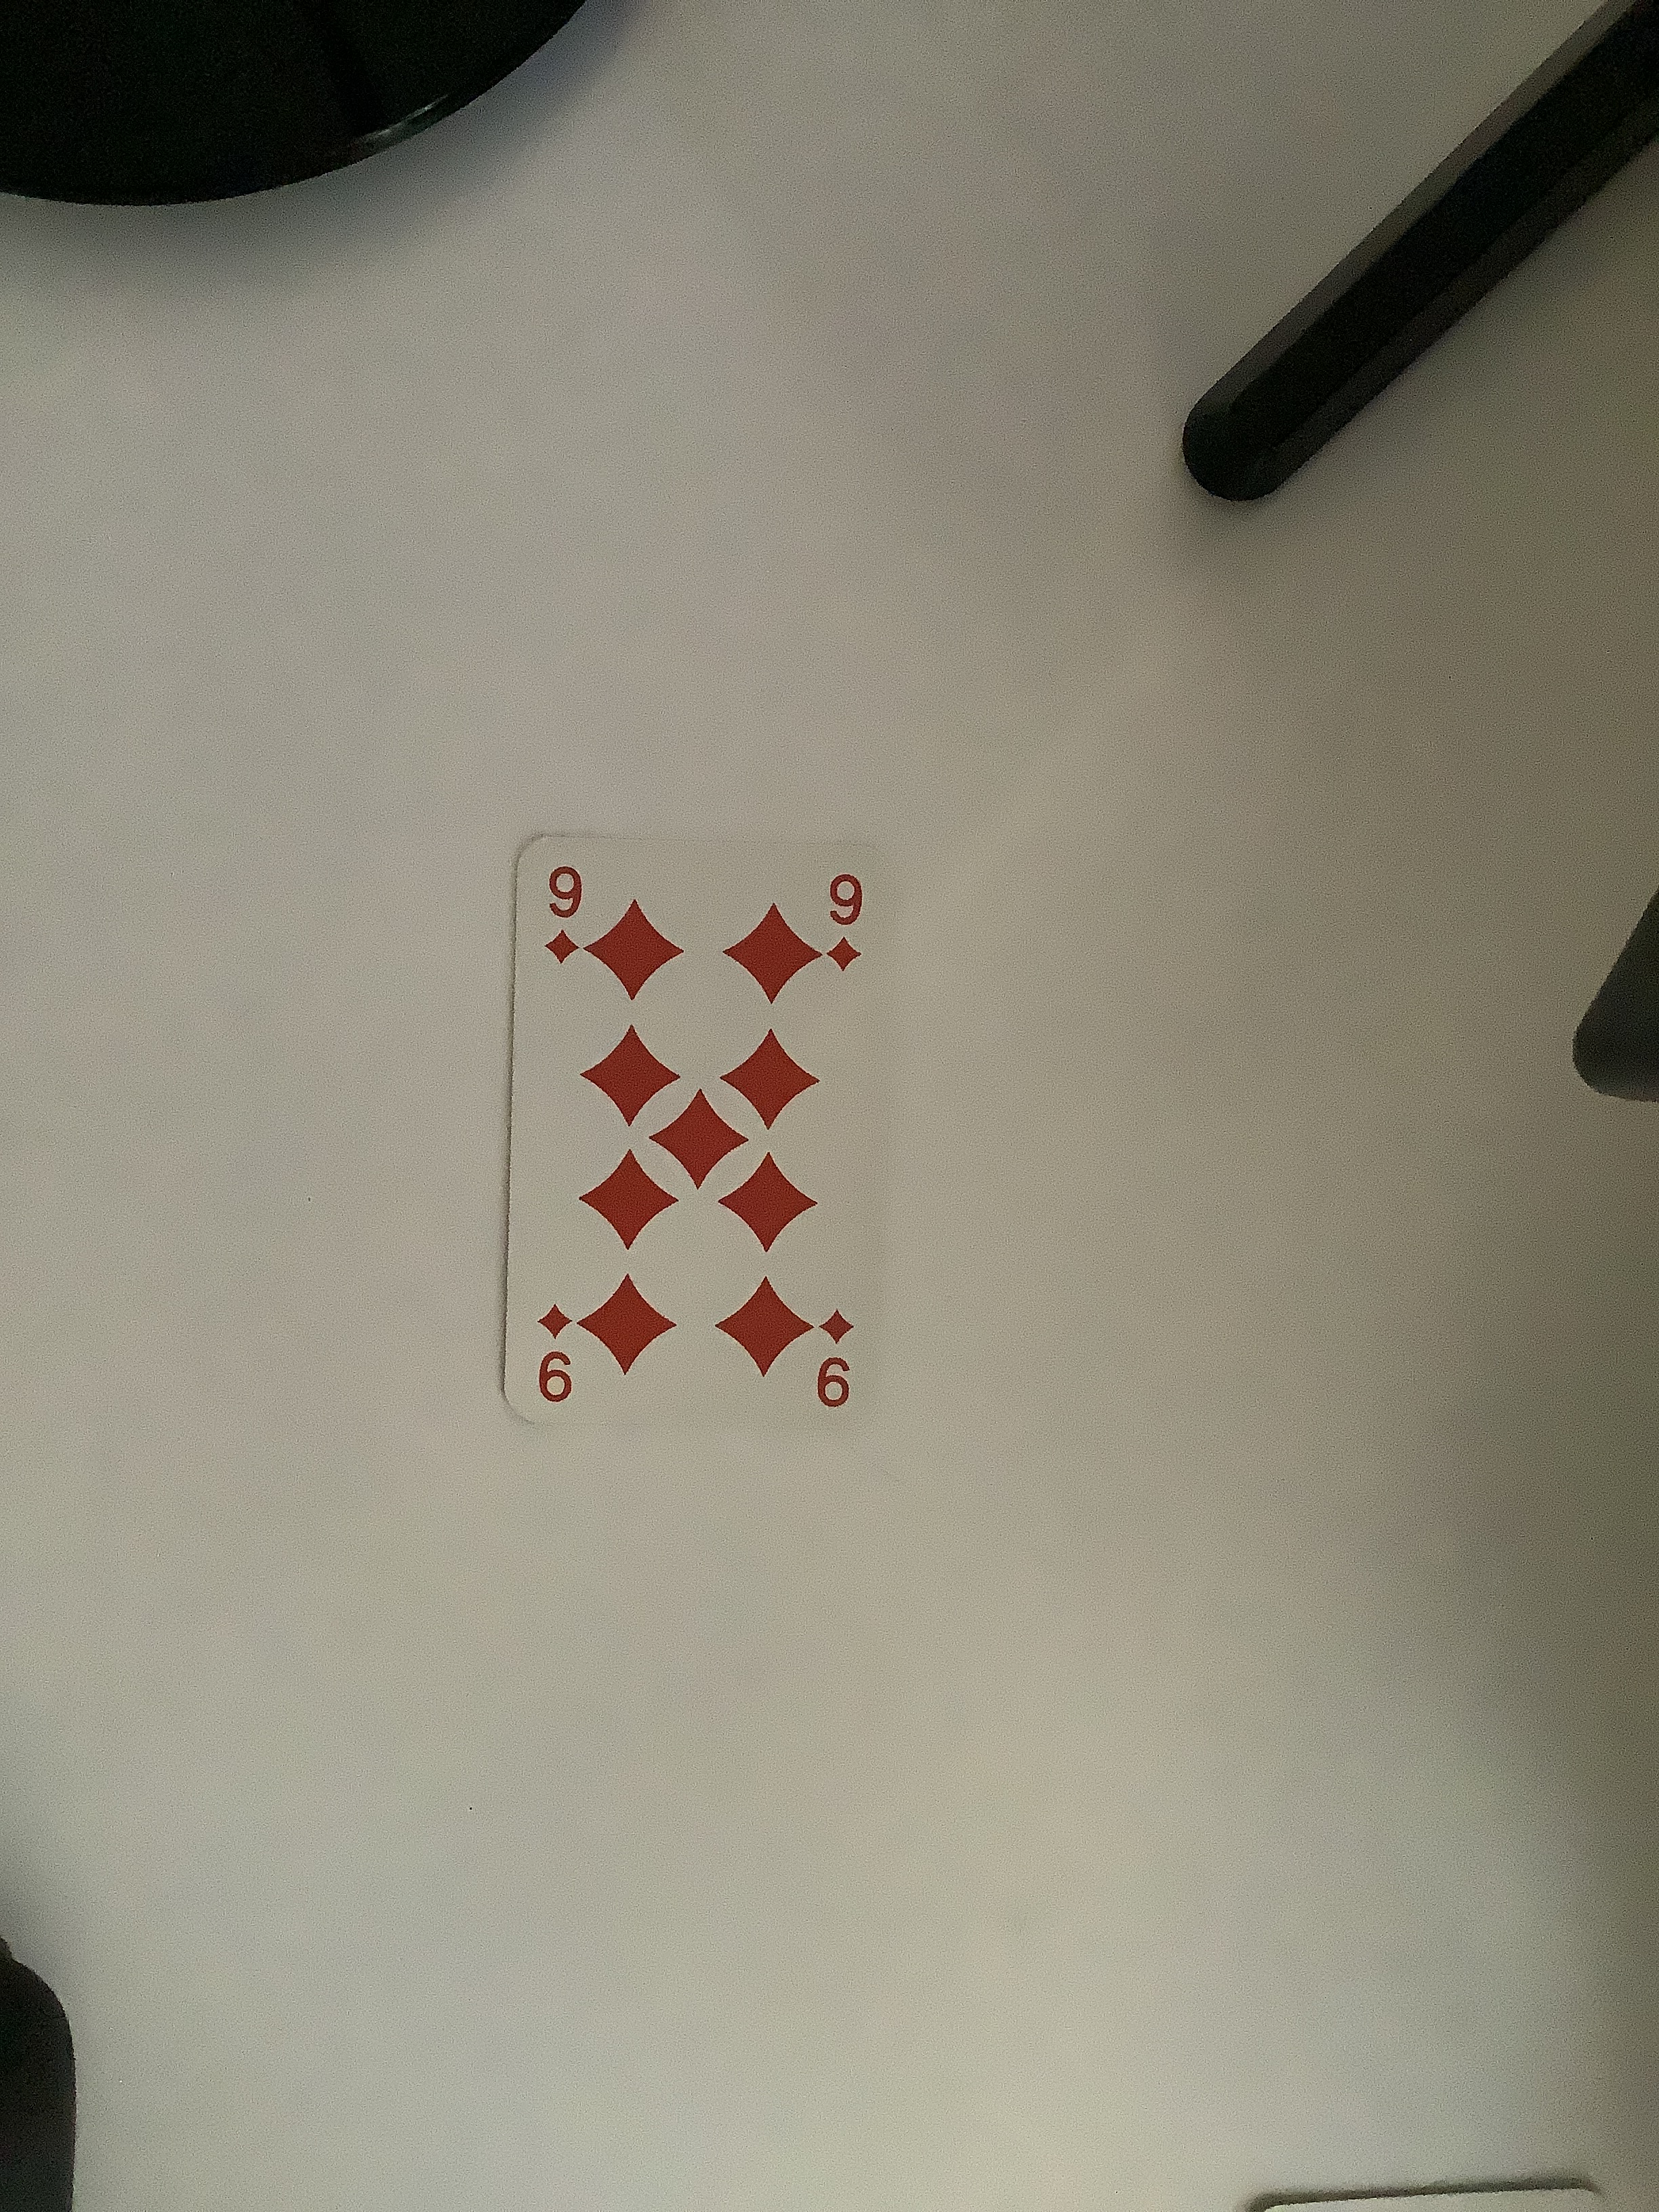♦ 9: (498, 805, 929, 1460), (924, 1489, 1006, 1519)
